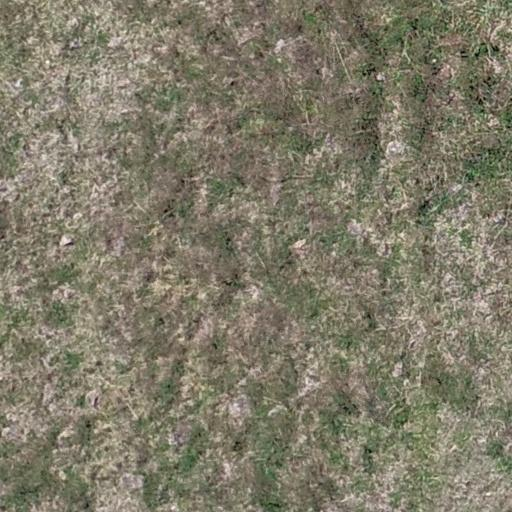stone: (56, 233, 75, 247), (86, 390, 98, 407)
